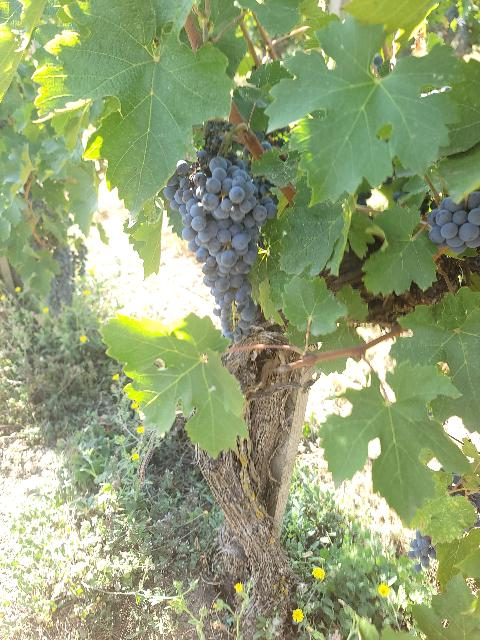grapes: (162, 150, 278, 341), (428, 191, 480, 254)
